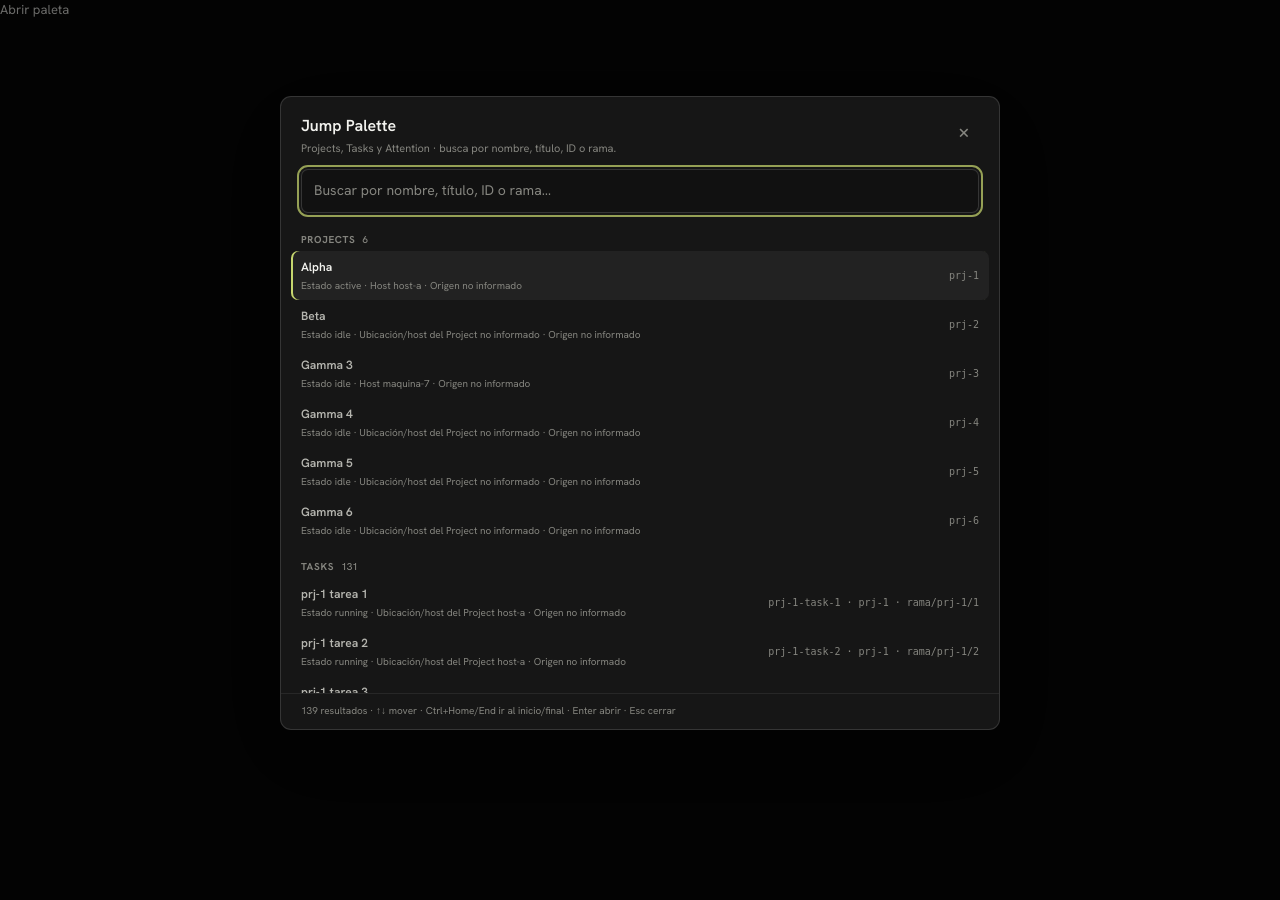
Test: JumpPaletteHost · lecturas › muestra Estado y ubicación del Project desde metadata autoritativa
This screenshot has width=1280, height=900.
Check: the option "Alpha" shows "Estado active", box x1=291 y1=250 x2=989 y2=300
Check: the option "Alpha" shows "Host host-a", box x1=291 y1=250 x2=989 y2=300
Type "prj-3-task-1" into the dropdown named "Buscar Projects, Tasks y Attention" at (640, 190), box x1=301 y1=168 x2=979 y2=212
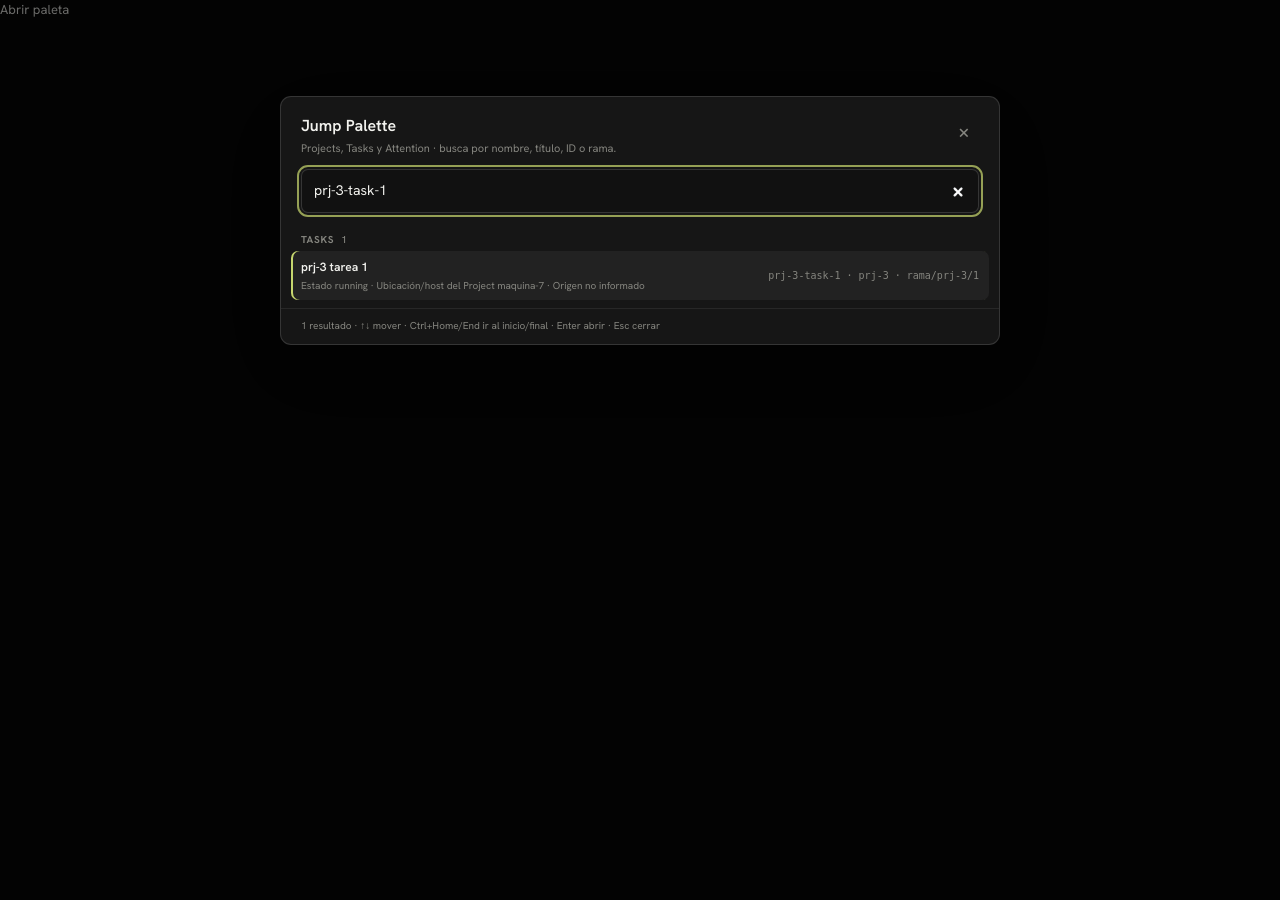
Check: the option shows "Ubicación/host del Project maquina-7", box x1=291 y1=250 x2=989 y2=300
Replace the text in the dropdown named "Buscar Projects, Tasks y Attention" with "prj-3-task-2" at (640, 190), box x1=301 y1=168 x2=979 y2=212
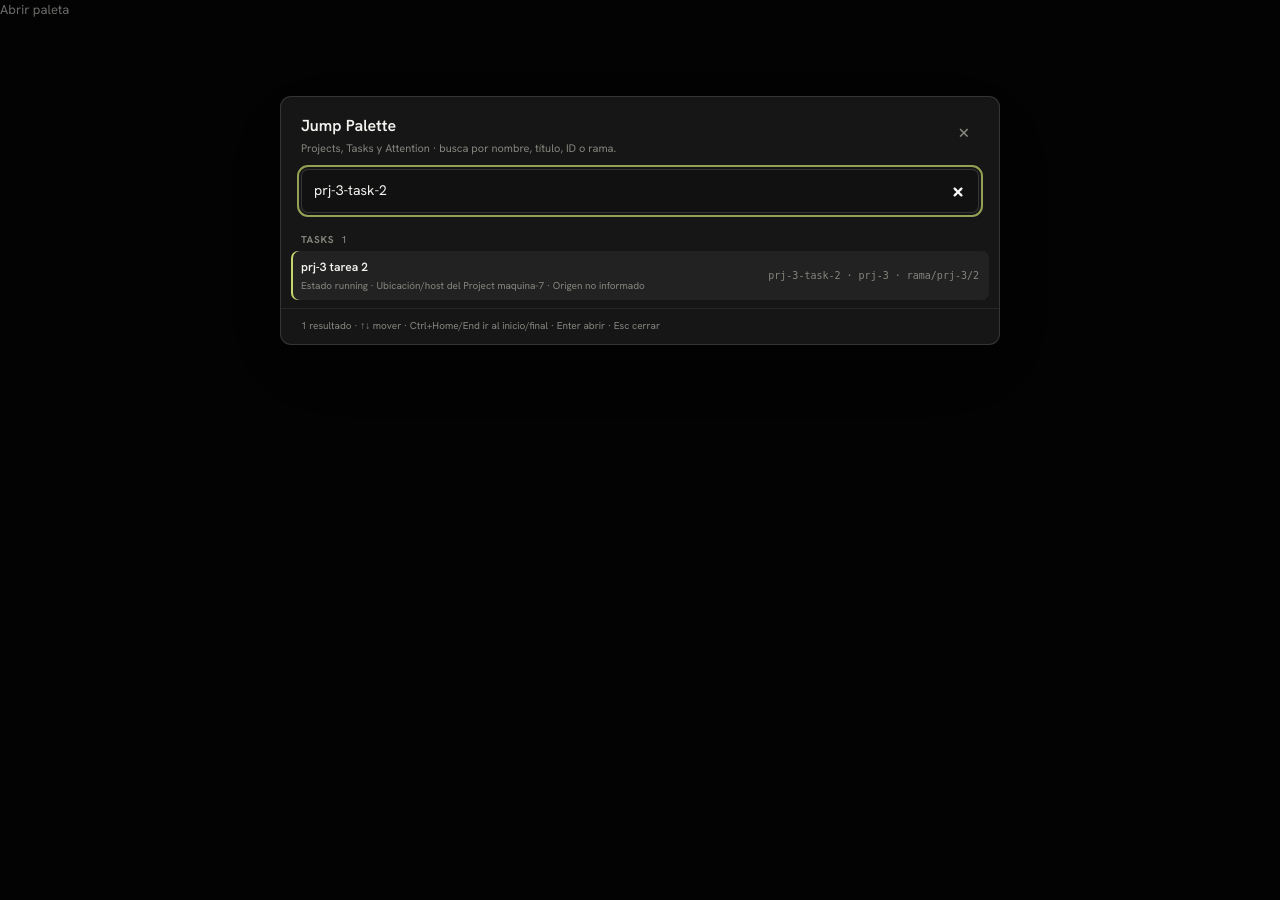
Check: the option shows "Estado running", box x1=291 y1=250 x2=989 y2=300
Check: the option shows "Ubicación/host del Project maquina-7", box x1=291 y1=250 x2=989 y2=300
Check: the option shows "Origen no informado", box x1=291 y1=250 x2=989 y2=300
Replace the text in the dropdown named "Buscar Projects, Tasks y Attention" with "prj-2-task-1" at (640, 190), box x1=301 y1=168 x2=979 y2=212
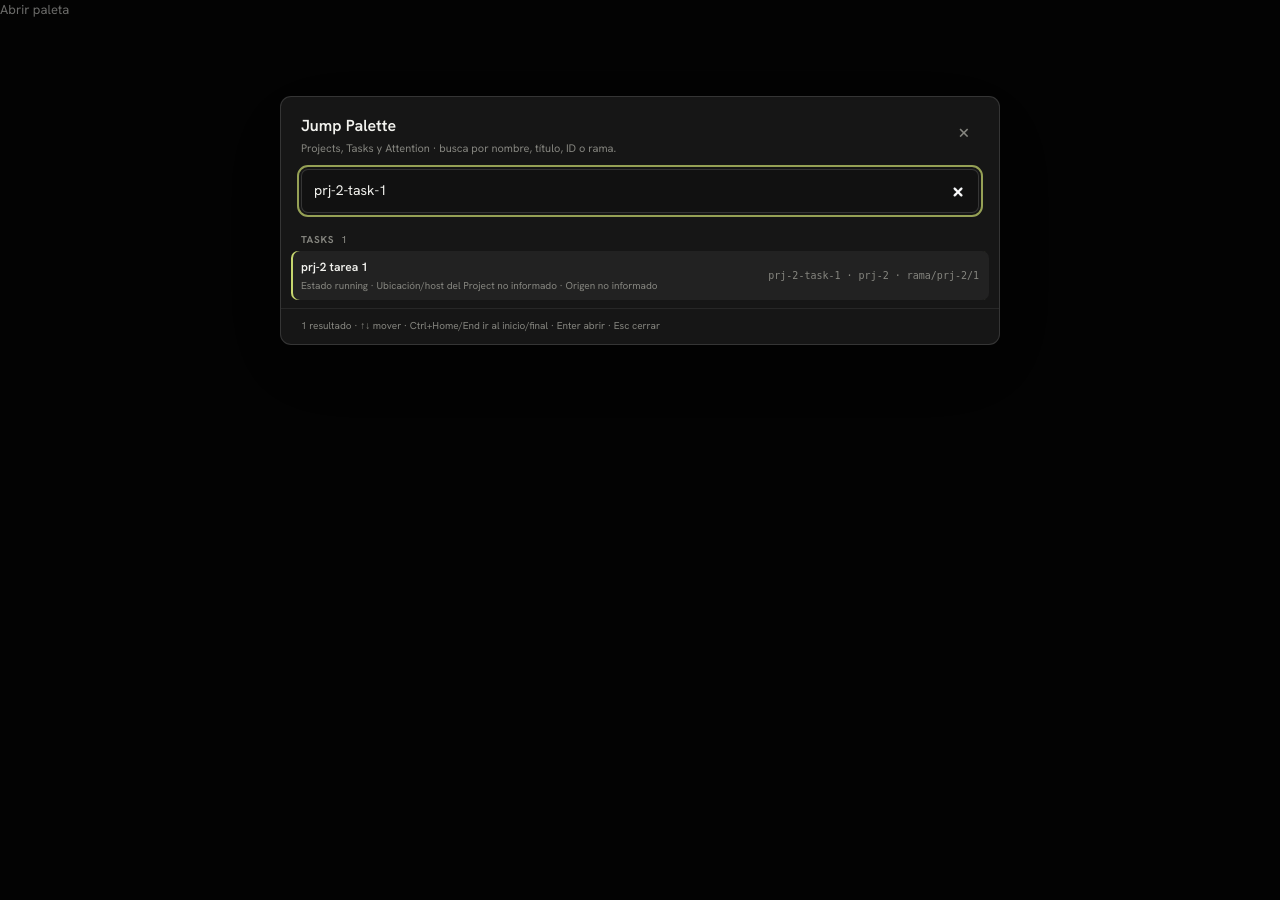
Check: the option shows "Ubicación/host del Project no informado", box x1=291 y1=250 x2=989 y2=300
